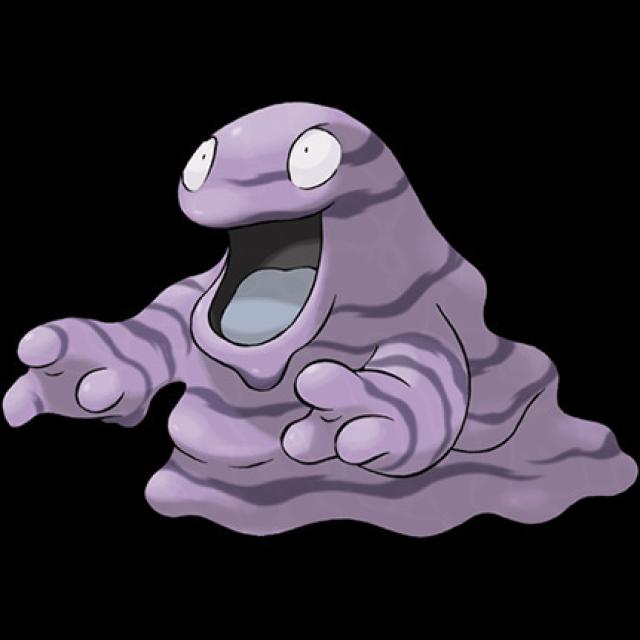Grimer: (6, 85, 640, 569)
